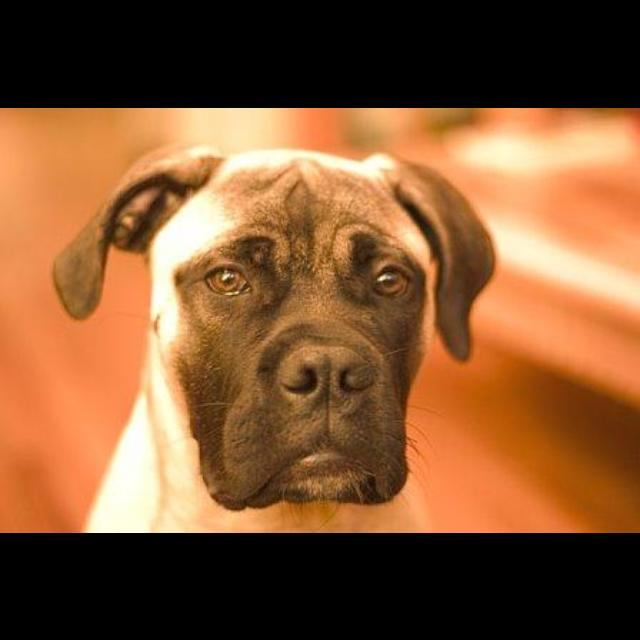bullmastiff: (52, 142, 499, 533)
